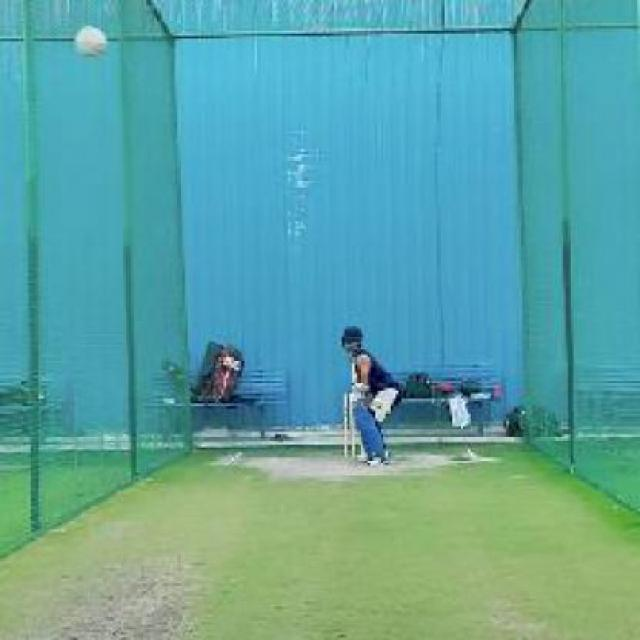Cricket ball: (73, 24, 109, 59)
